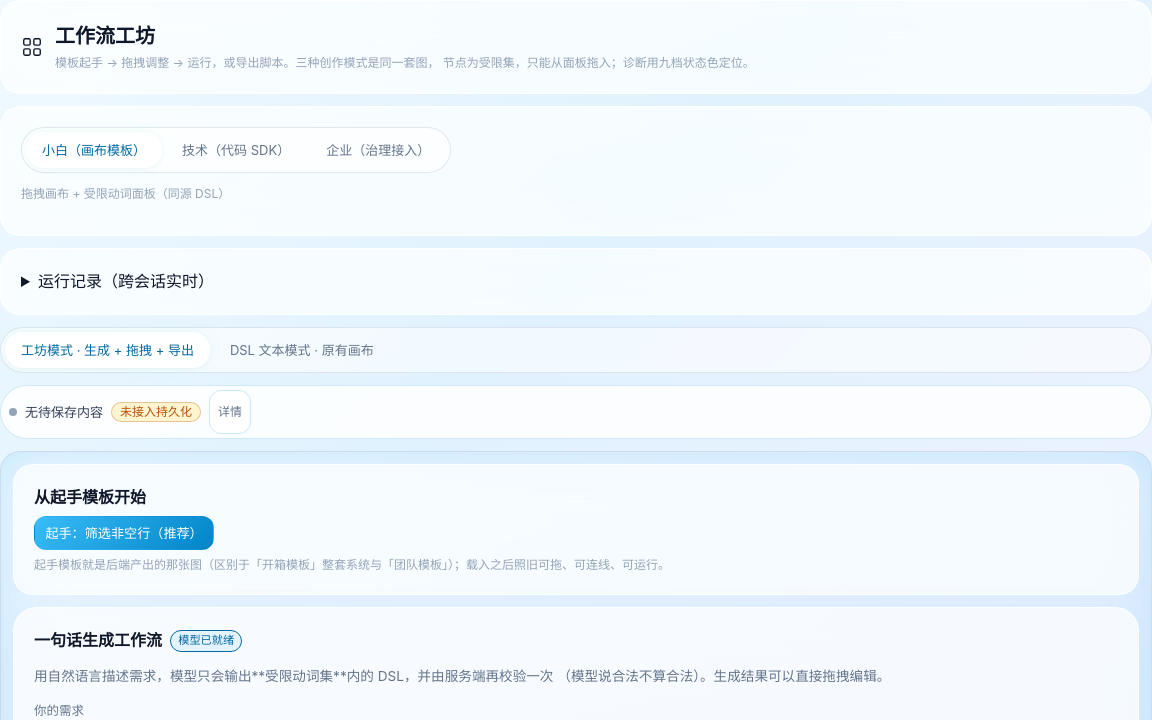
Test case: A-三重模式-01/04 · 模式壳与小白起手 › 切到技术模式：代码视图 / 手改 / 导出回来，图本身不变
The image size is (1152, 720).
Click the tab with test id "mode-tab-technical": point(236, 150) [166,132,306,168]
(page scrolled)
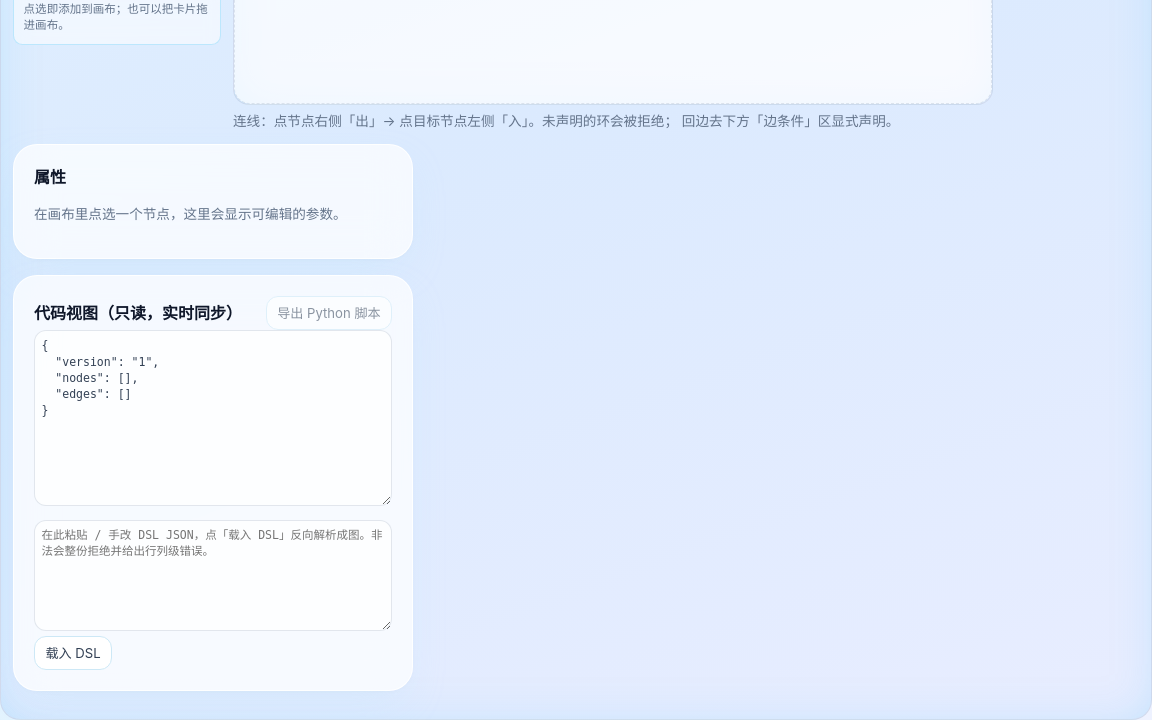
Now the text box with test id "flow-code" is shown, box [34,330,392,506]
Now the button with test id "flow-export" is shown, box [266,296,392,330]
Now the text box with test id "flow-dsl-input" is shown, box [34,520,392,631]
